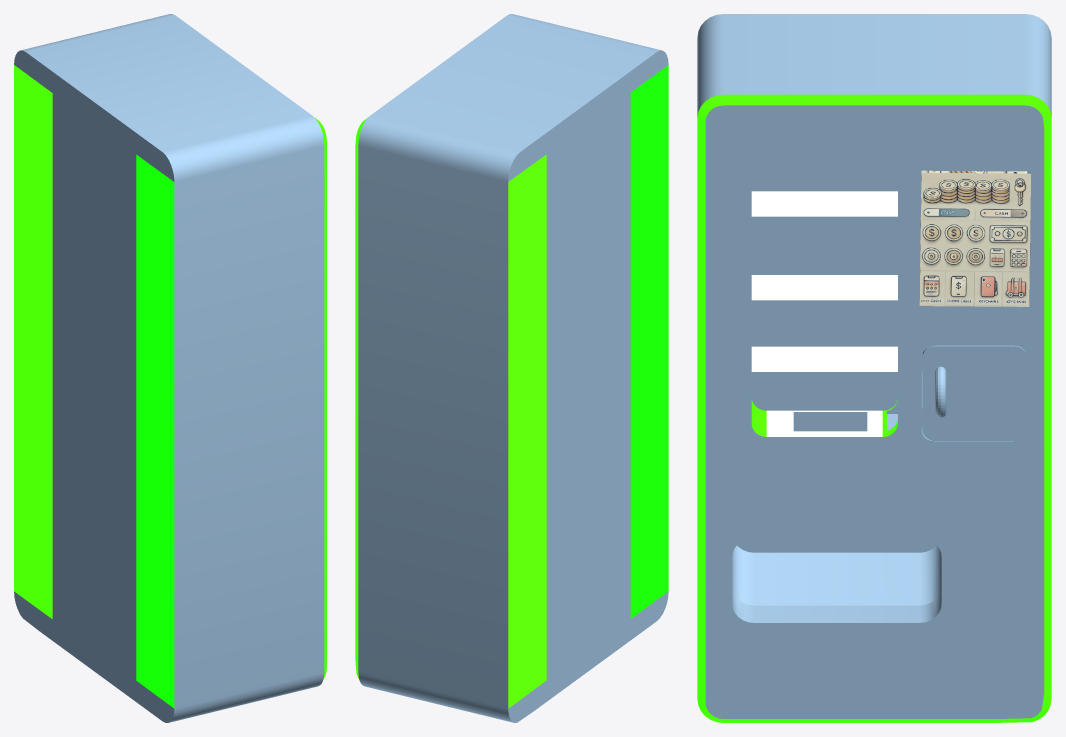
File: obloshka.gltf
3 renders of one model, left to right at view 1: azimuth 30°, elevation 25°; view 2: azimuth 150°, elevation 25°; view 3: azimuth 270°, elevation 25°, orthographic. The views are drawn at different scales.
Parts seen in each view (by area): view 1: main part; view 2: main part; view 3: main part, order screen, main part.001, Cube.002, Cube.001, Cube.
Part boxes in pixels (<box>): main part: <box>14,14,326,722</box>; main part: <box>355,14,668,722</box>; main part: <box>697,14,1051,722</box>; order screen: <box>919,170,1030,306</box>; main part.001: <box>922,345,1027,440</box>; Cube.002: <box>751,346,897,382</box>; Cube.001: <box>751,275,897,310</box>; Cube: <box>751,191,897,226</box>.
Bounding box in the file's own units: 1.4 × 4.3 × 2.2.
Materials: 7 (1 with a texture image).
